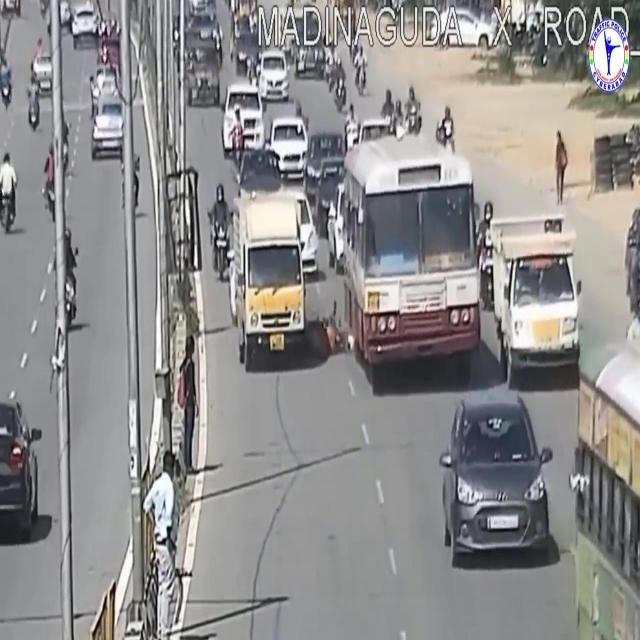accident: (225, 127, 491, 397)
non_accident: (175, 25, 311, 182), (64, 2, 124, 170)
